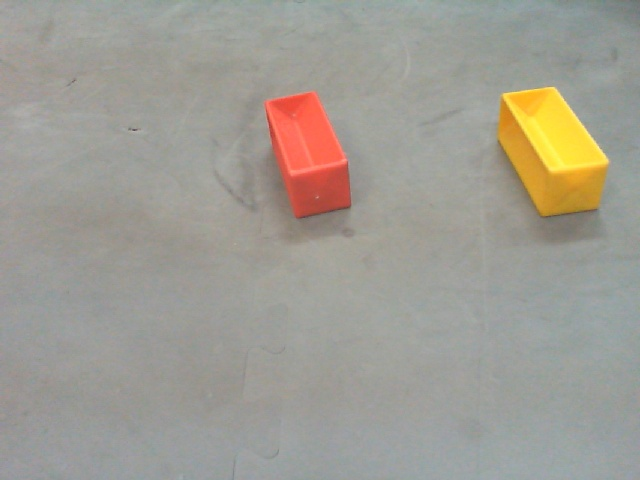RedSample: (258, 90, 356, 225)
YellowSample: (495, 81, 611, 220)
